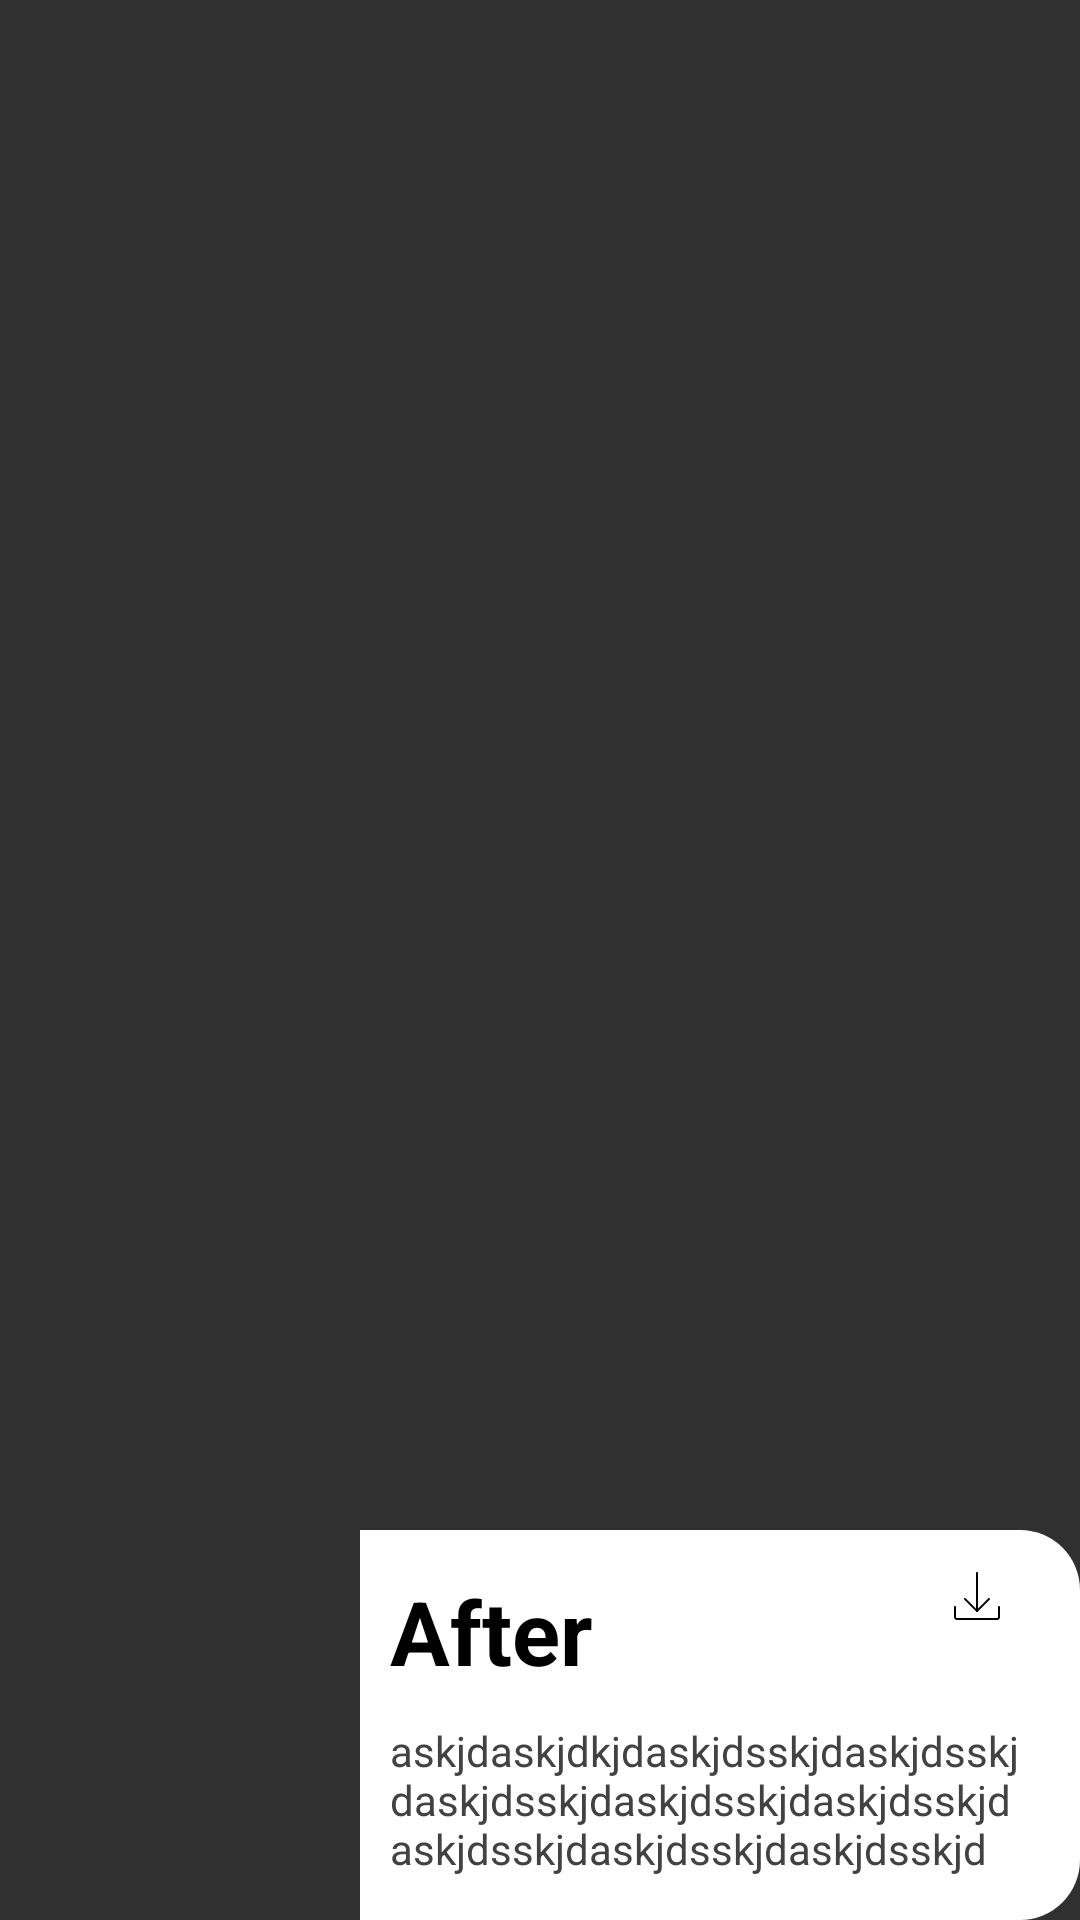

Locate icon controls on the screen. Image size 1080*1920, boxes as detection(x1, y1, x2, y2).
download: detection(954, 1572, 1000, 1620)
